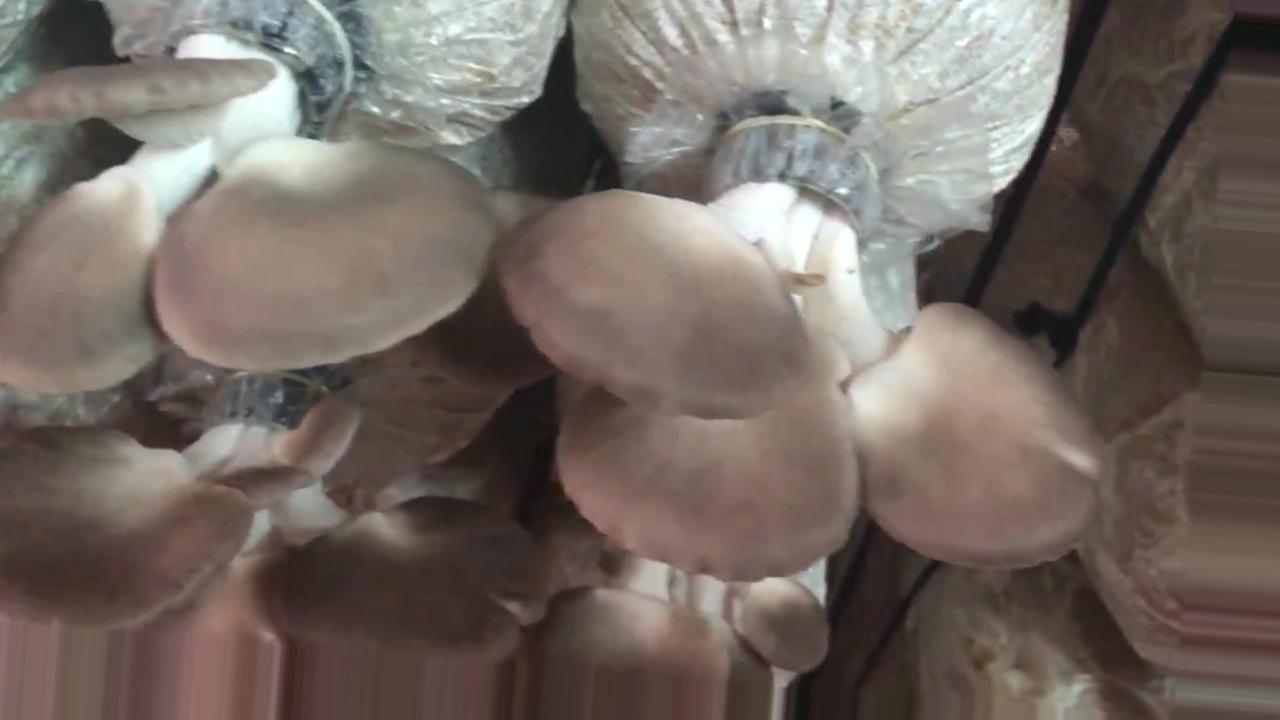nam: (496, 117, 1111, 580), (1, 1, 491, 393), (1, 373, 545, 720), (496, 580, 832, 720)
